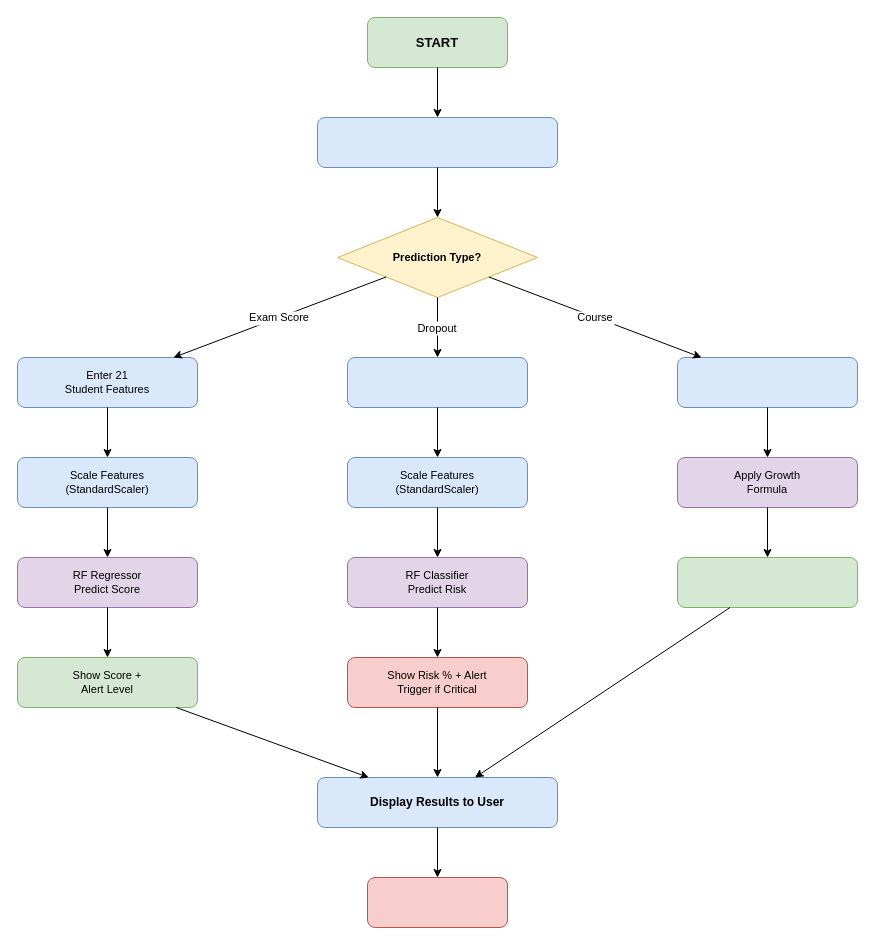
The diagram is 875 pixels wide and 945 high, and some of its shapes have lost their labels. Each missing label, with the centre of its shape:
END: the point at 437,902
Enter Enrollment, AvgScore, Category: the point at 767,382
Enter Student Features: the point at 437,382
Show Forecast + Trend: the point at 767,582
User Selects Prediction Type: the point at 437,142
